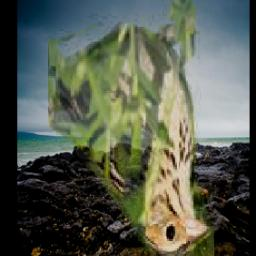Sparrow: (47, 1, 213, 256)
